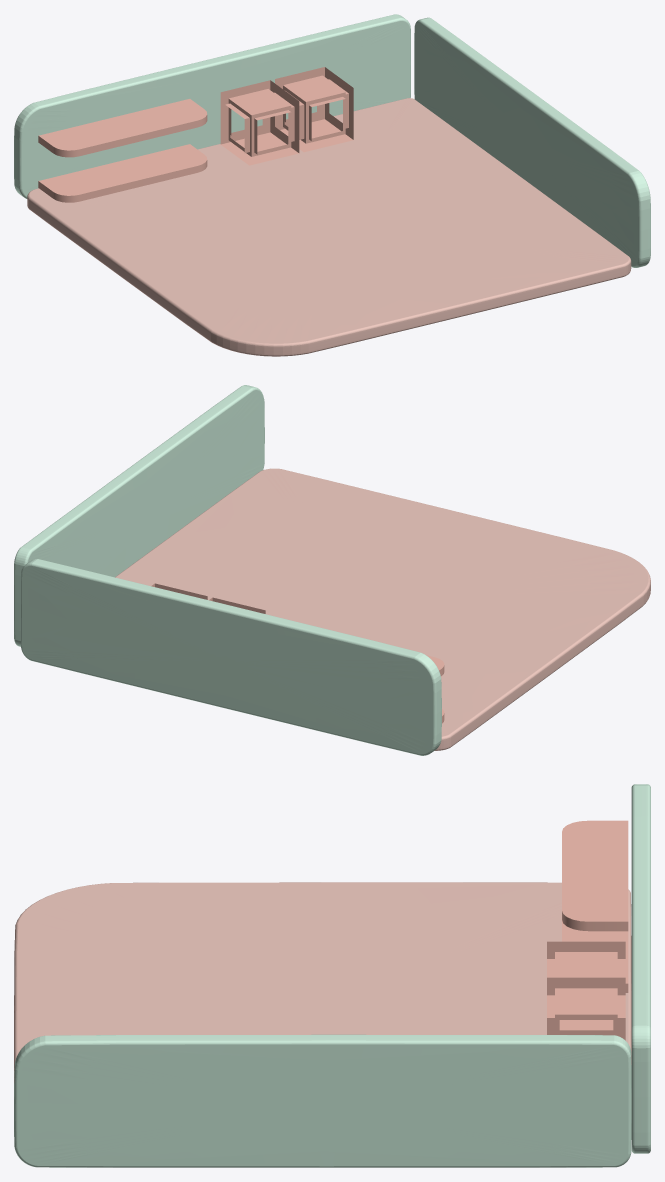
The model's file is store31.glb.
3 views of the same model, one above another, from view 1: azimuth 30°, elevation 25°; view 2: azimuth 150°, elevation 25°; view 3: azimuth 270°, elevation 25° (orthographic). The views are drawn at different scales.
Bounding box in the file's own units: 3.09 × 0.6794 × 3.08.
